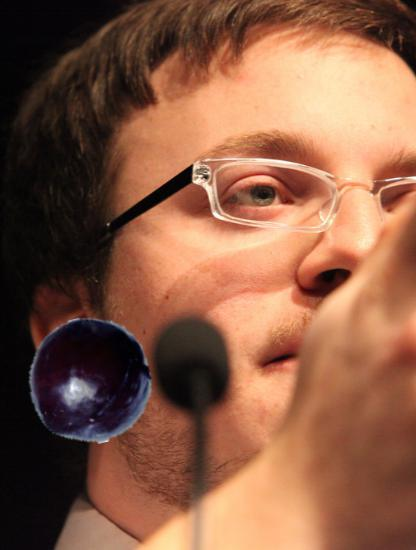Plum: (26, 317, 154, 445)
